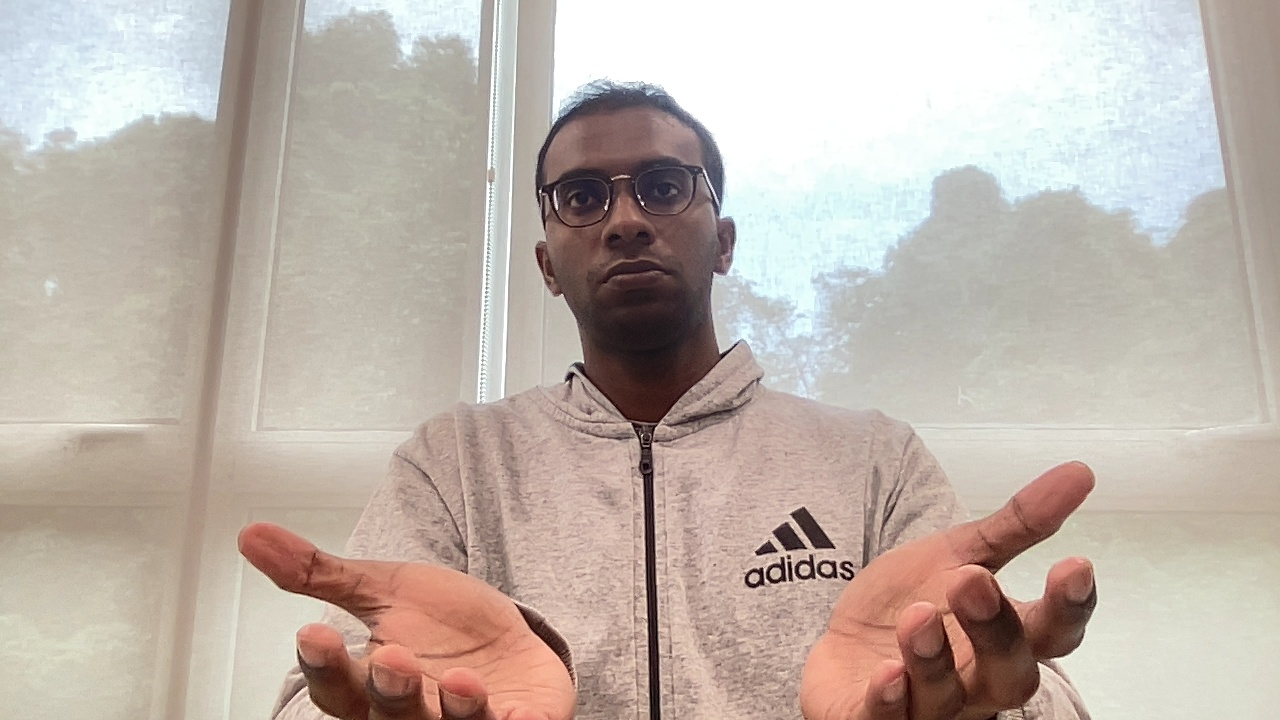give: (232, 452, 1110, 720)
